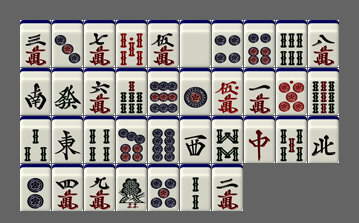0m: (212, 68, 243, 115)
0p: (276, 68, 307, 115)
0s: (116, 20, 147, 67)
1m: (244, 68, 275, 115)
1p: (180, 68, 211, 115)
1s: (116, 164, 147, 211)
1z: (52, 116, 83, 163)
2m: (212, 164, 243, 211)
2p: (20, 164, 51, 211)
2s: (180, 164, 211, 211)
2z: (20, 68, 51, 115)
3m: (20, 20, 51, 67)
3p: (52, 20, 83, 67)
3s: (20, 116, 51, 163)
3z: (180, 116, 211, 163)
4m: (52, 164, 83, 211)
4p: (212, 20, 243, 67)
4s: (84, 116, 115, 163)
4z: (308, 116, 339, 163)
5m: (148, 20, 179, 67)
5p: (148, 164, 179, 211)
5s: (276, 116, 307, 163)
5z: (180, 20, 211, 67)
6m: (84, 68, 115, 115)
6p: (244, 20, 275, 67)
6s: (276, 20, 307, 67)
6z: (52, 68, 83, 115)
7m: (84, 20, 115, 67)
7p: (116, 116, 147, 163)
7s: (116, 68, 147, 115)
7z: (244, 116, 275, 163)
8m: (308, 20, 339, 67)
8p: (148, 116, 179, 163)
8s: (212, 116, 243, 163)
9m: (84, 164, 115, 211)
9p: (148, 68, 179, 115)
9s: (308, 68, 339, 115)
